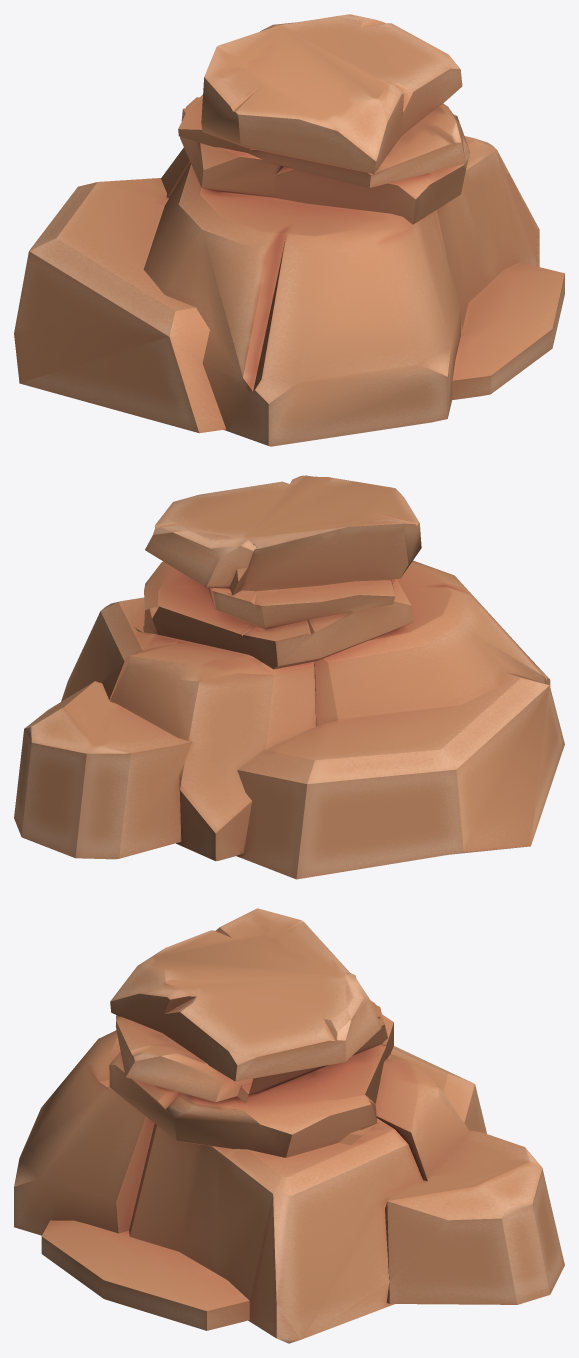
Rendered from rock_13.glb.
The picture shows the model from 3 angles, top to bottom: view 1: azimuth 30°, elevation 25°; view 2: azimuth 150°, elevation 25°; view 3: azimuth 270°, elevation 25°; orthographic projection. The views are drawn at different scales.
Parts seen in each view (by area): view 1: Rock_13; view 2: Rock_13; view 3: Rock_13.
Part boxes in pixels (x1,y1,x2,y2): Rock_13: [14, 14, 564, 446]; Rock_13: [14, 475, 564, 879]; Rock_13: [14, 908, 564, 1343].
Bounding box in the file's own units: 4.97 × 2.76 × 4.89.
1 material, 1 textured.
